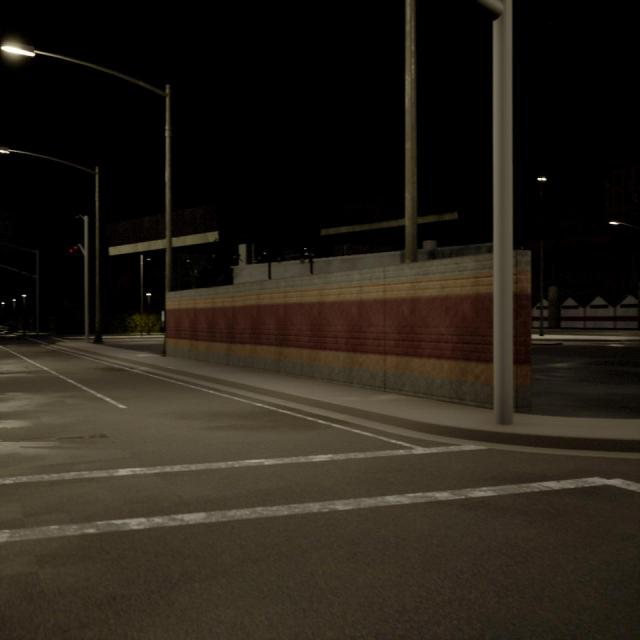traffic_light: (74, 246, 78, 249), (70, 249, 72, 253)
